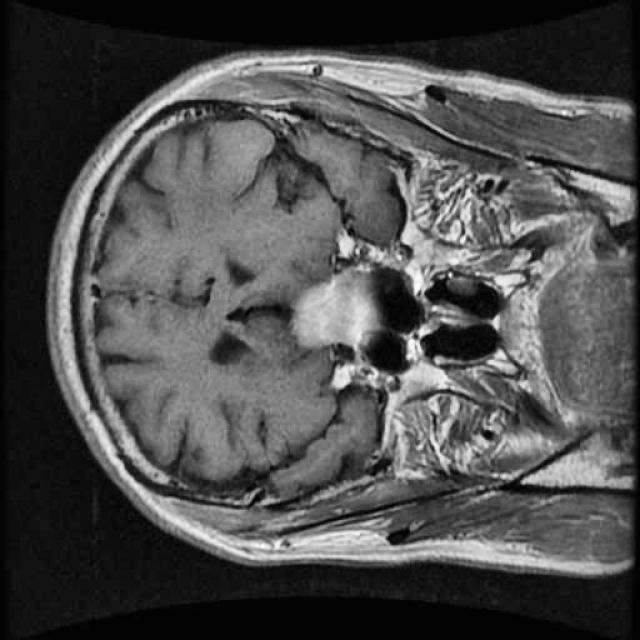Tumor: (288, 255, 382, 358)
